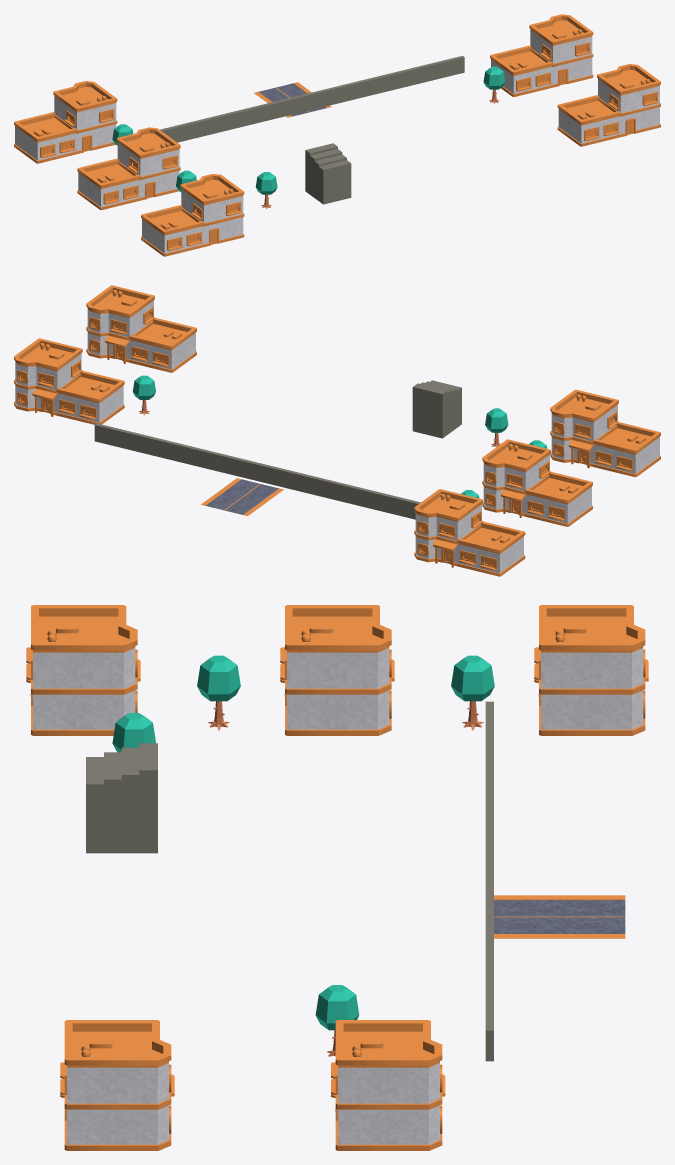
Rendered from Street-3.obj.
3 views of the same model, one above another, from view 1: azimuth 30°, elevation 25°; view 2: azimuth 150°, elevation 25°; view 3: azimuth 270°, elevation 25° (orthographic). The views are drawn at different scales.
Visible parts, largest first — view 1: surface1, surface2, surface8, surface3, surface11; view 2: surface1, surface2, surface8, surface3, surface11, surface10; view 3: surface2, surface1, surface8, surface3, surface11, surface10, surface12.
Boxes of the visible parts, x1=… form: surface1: x1=14, y1=14, x2=660, y2=256; surface2: x1=15, y1=29, x2=659, y2=253; surface8: x1=160, y1=56, x2=464, y2=204; surface3: x1=112, y1=66, x2=505, y2=194; surface11: x1=263, y1=84, x2=322, y2=115; surface1: x1=14, y1=285, x2=660, y2=576; surface2: x1=15, y1=301, x2=659, y2=573; surface8: x1=94, y1=380, x2=461, y2=519; surface3: x1=132, y1=375, x2=547, y2=498; surface11: x1=210, y1=480, x2=273, y2=513; surface10: x1=201, y1=478, x2=283, y2=515; surface2: x1=33, y1=648, x2=643, y2=1144; surface1: x1=26, y1=605, x2=648, y2=1150; surface8: x1=86, y1=701, x2=493, y2=1061; surface3: x1=112, y1=655, x2=494, y2=1030; surface11: x1=494, y1=904, x2=625, y2=929; surface10: x1=494, y1=895, x2=625, y2=938; surface12: x1=494, y1=900, x2=625, y2=933.
Size of the model in its own units: 68.99 by 6.37 by 36.75.
